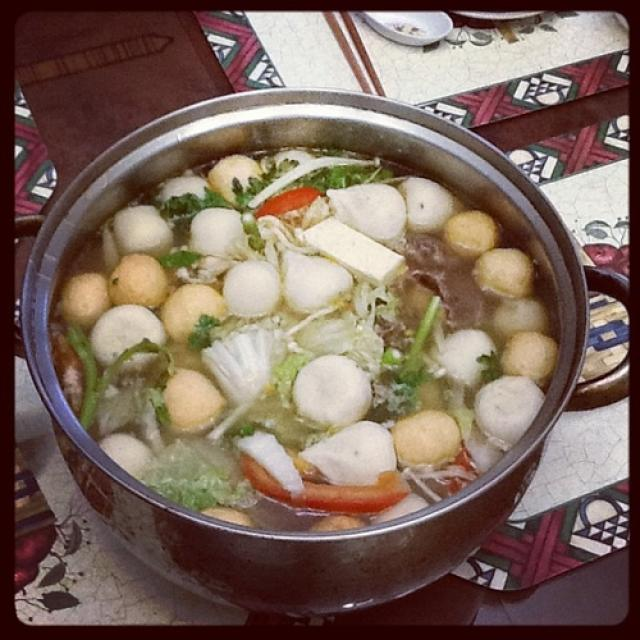汤锅炖物: (41, 96, 562, 562)
